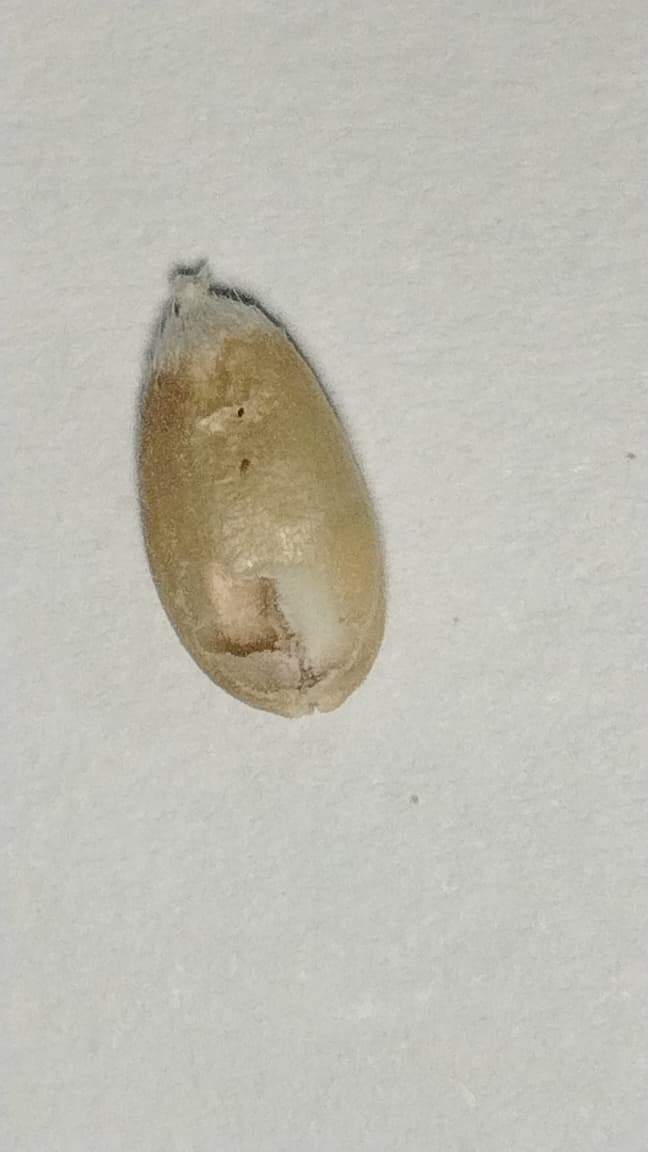damage: (139, 274, 385, 713)
insectdamage: (183, 502, 385, 715)
